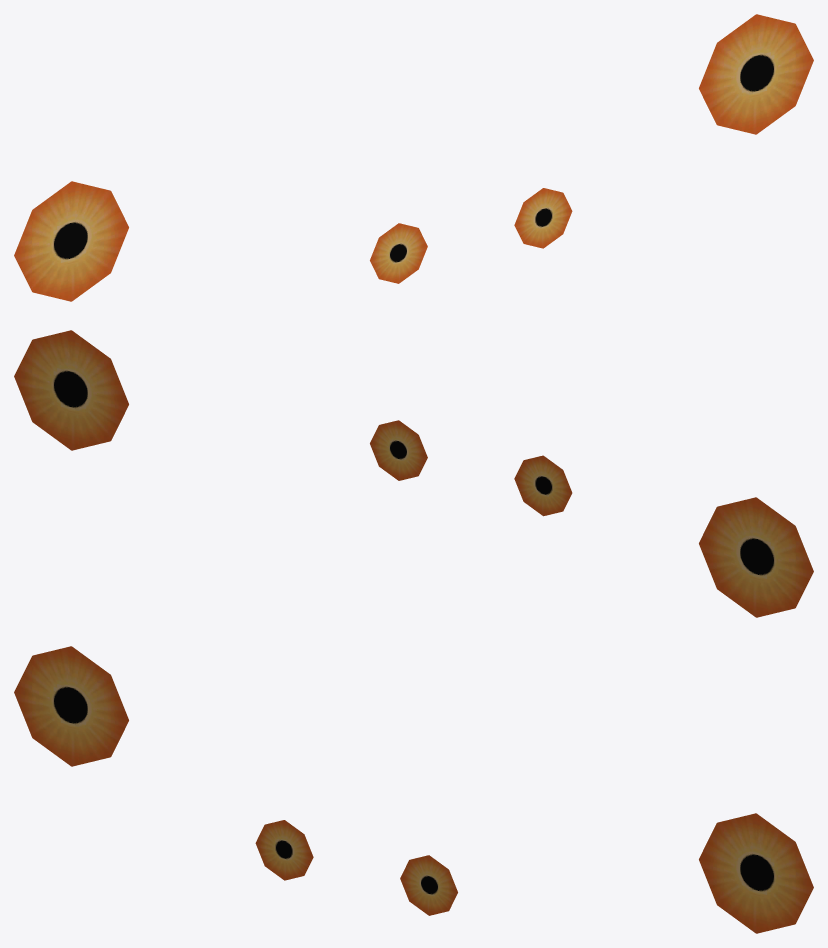
Rendered from hutt_transport_engine_on_l1.fbx.
3 renders of one model, top to bottom at view 1: azimuth 30°, elevation 25°; view 2: azimuth 150°, elevation 25°; view 3: azimuth 330°, elevation 25°, orthographic.
Parts seen in each view (by area): view 1: mesh_node; view 2: mesh_node; view 3: mesh_node.
Boxes of the visible parts, x1,y1,x2,y2 form: mesh_node: (14, 14, 813, 301); mesh_node: (14, 330, 813, 617); mesh_node: (14, 646, 813, 933).
Size of the model in its own units: 20.79 by 3.15 by 2.57.
Materials: 1 (1 with a texture image).
